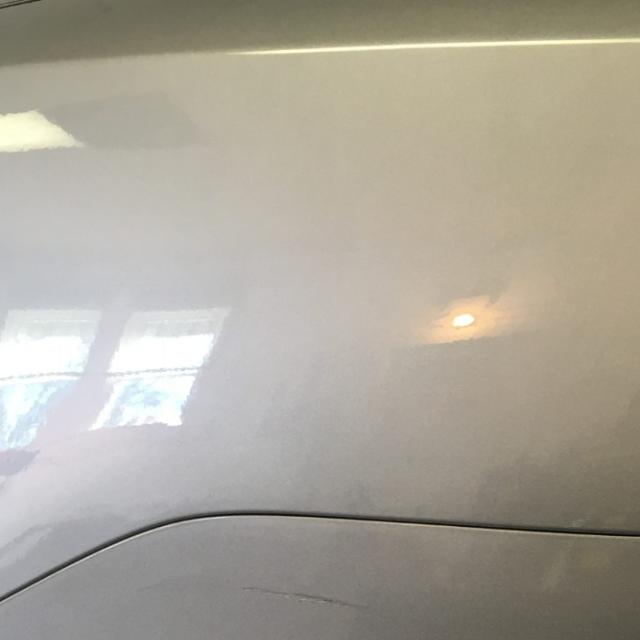dents: (233, 542, 373, 640)
